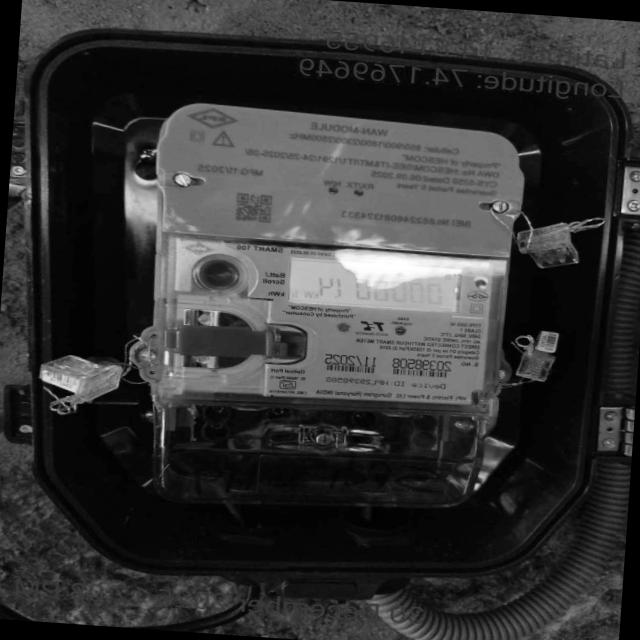meter: (140, 99, 520, 422)
